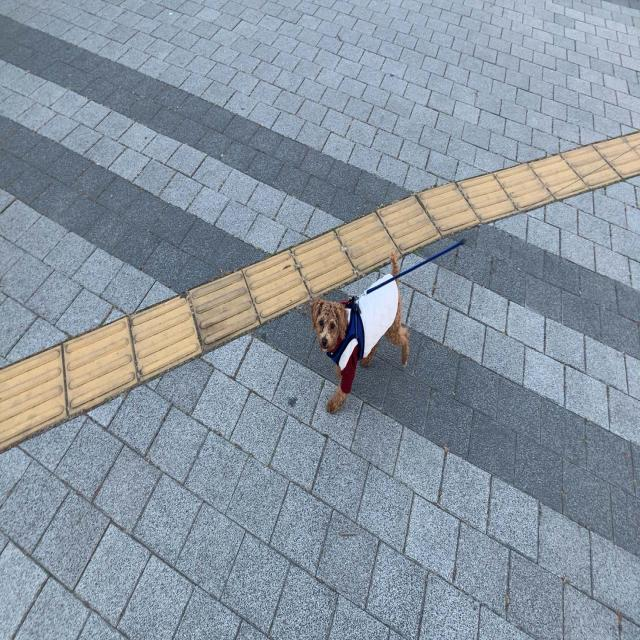Dog: (310, 250, 410, 415)
